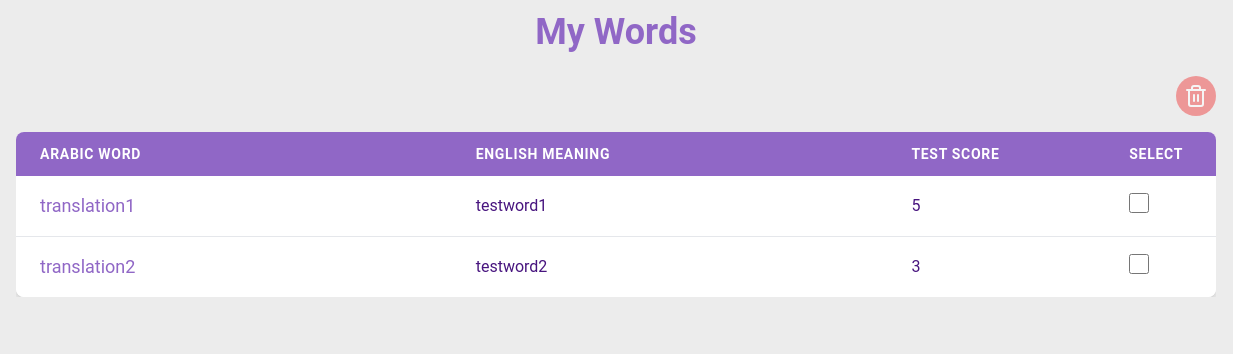
MyWords component suite tests › should display error message when deleting words fails
Expected: the link "translation1" is shown, 40,195 -> 135,216
Expected: the link "translation2" is shown, 40,256 -> 135,277
Click the checkbox in the row of "translation1". click: (1139, 202)
box: 1129,192 -> 1149,212
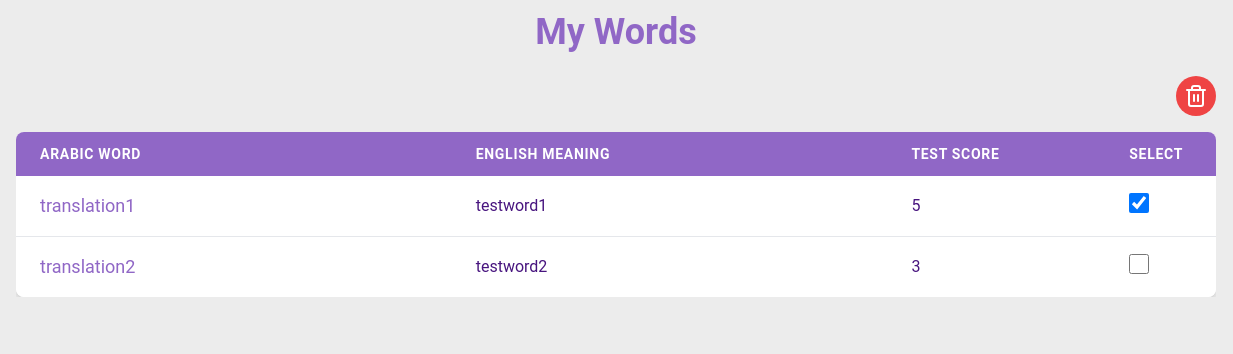
Click the checkbox in the row of "translation2". click: (1139, 264)
box: 1129,254 -> 1149,274
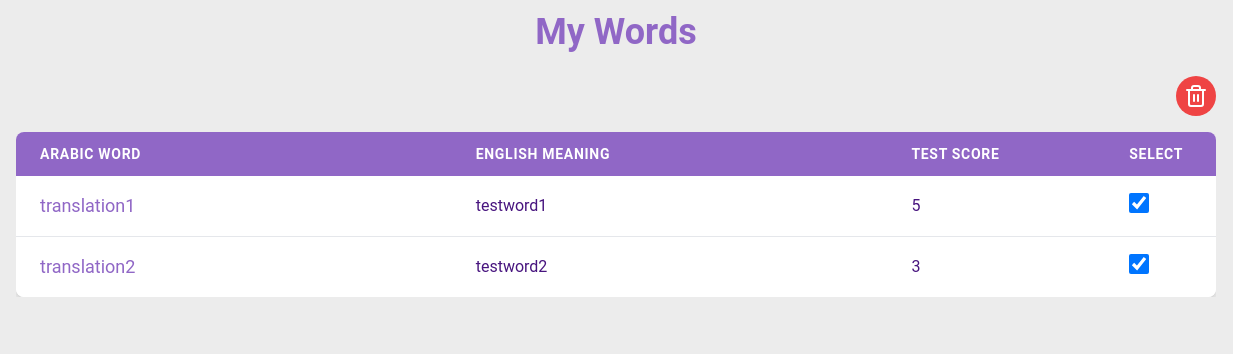
Click the button named "delete". click: (1196, 96)
box: 1176,76 -> 1216,116
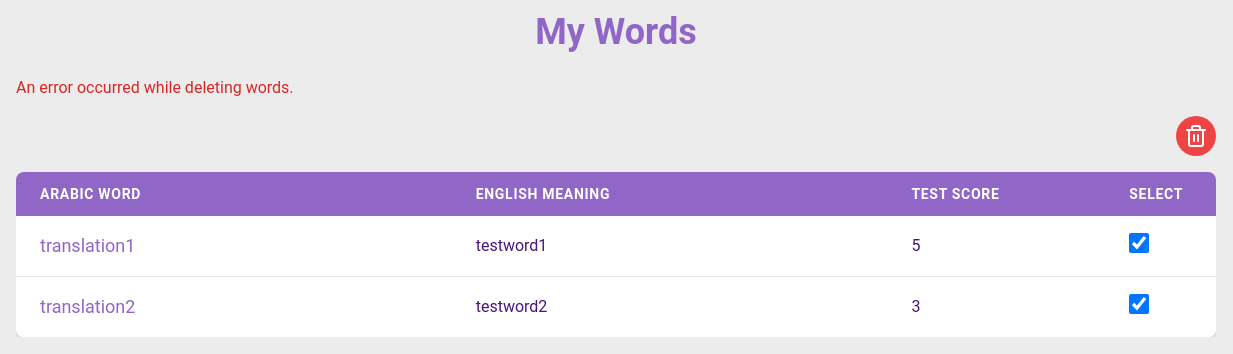
Now the text "An error occurred while deleting words." is shown, box 16,78 -> 294,97
